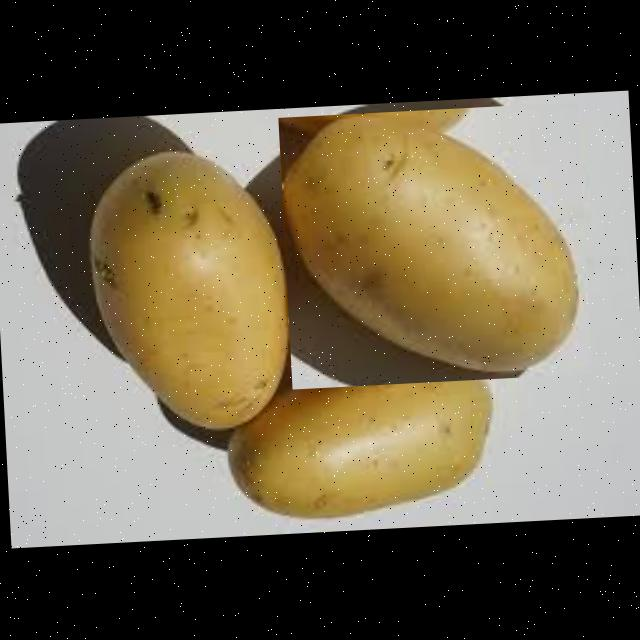Potato: (278, 103, 592, 390), (81, 142, 296, 442), (224, 348, 506, 528)
